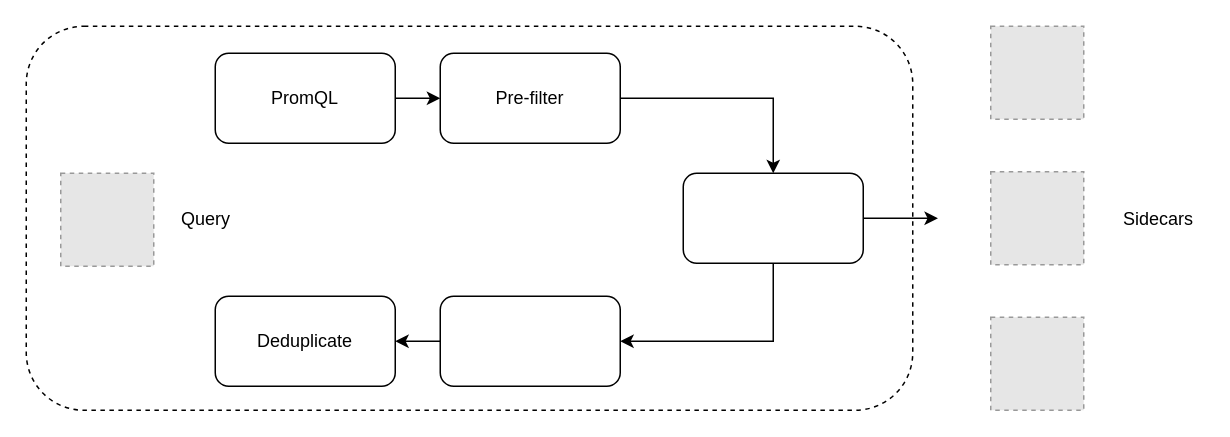
This 1230x437 diagram has some shape labels left out. Grey dashed boxes stand in for pictures. Here are the shapes that lost their labels. From the top down, the centre of each, then its label:
At (772,217): "Fanout".
At (529,340): "Merge".
